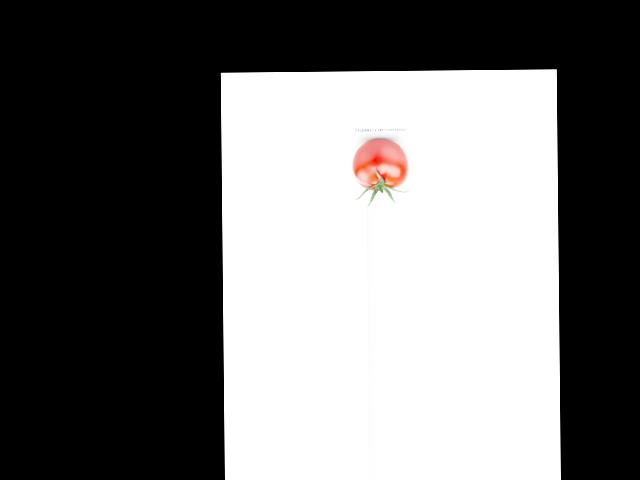tomato: (351, 139, 408, 190)
